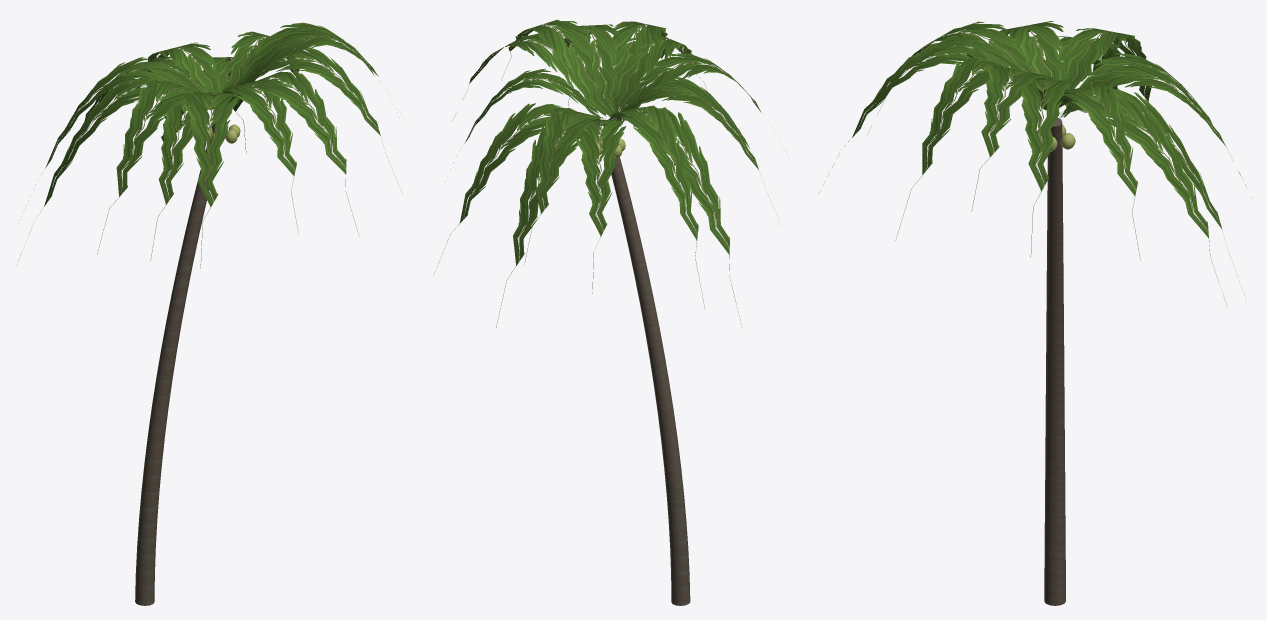
Rendered from kelapa_a.glb.
3 views of the same model, side by side, from view 1: azimuth 30°, elevation 25°; view 2: azimuth 150°, elevation 25°; view 3: azimuth 270°, elevation 25° (orthographic). The views are drawn at different scales.
Visible parts, largest first — view 1: kelapa_a_daun_kelapa, kelapa_a_batang_kelapa; view 2: kelapa_a_daun_kelapa, kelapa_a_batang_kelapa; view 3: kelapa_a_daun_kelapa, kelapa_a_batang_kelapa.
Boxes of the visible parts, left/top/right/bottom form: kelapa_a_daun_kelapa: left=18, top=22, right=401, bottom=268; kelapa_a_batang_kelapa: left=135, top=120, right=226, bottom=605; kelapa_a_daun_kelapa: left=433, top=19, right=787, bottom=327; kelapa_a_batang_kelapa: left=601, top=135, right=690, bottom=605; kelapa_a_daun_kelapa: left=819, top=21, right=1246, bottom=306; kelapa_a_batang_kelapa: left=1044, top=118, right=1065, bottom=605.
Bounding box in the file's own units: 8.14 × 12.27 × 7.94.
3 materials, 2 textured.
